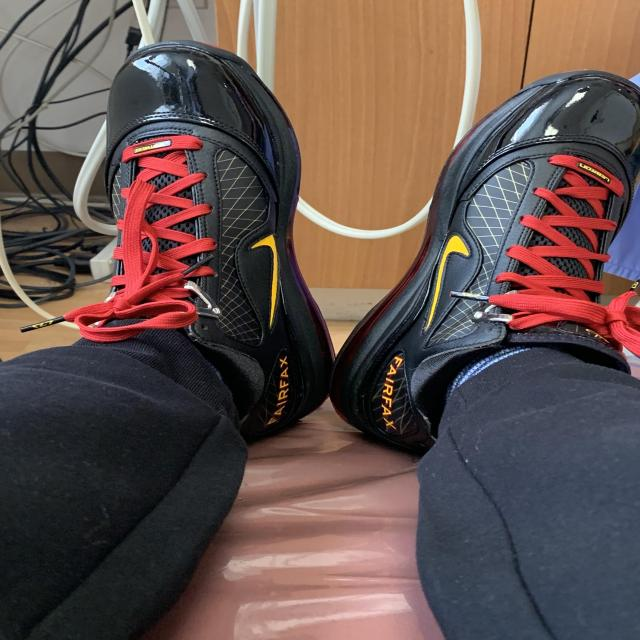shoe: (324, 62, 640, 459), (85, 38, 337, 445)
